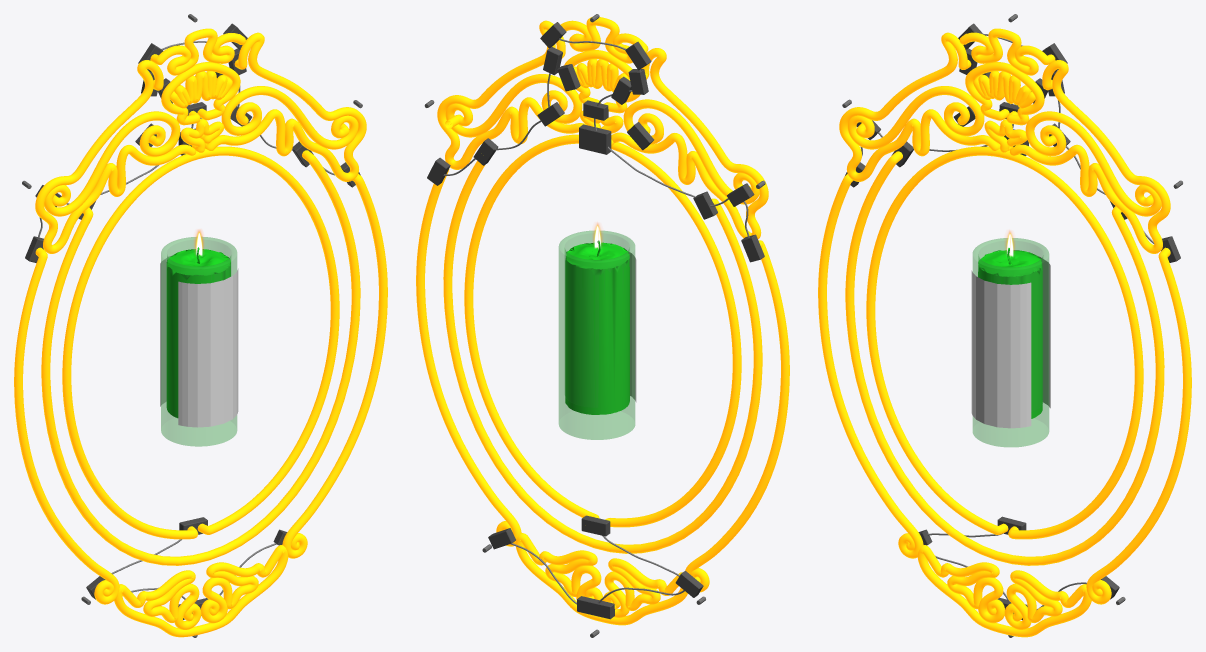
Rendered from neonFrameAndCandle.glb.
The picture shows the model from 3 angles, left to right: view 1: azimuth 30°, elevation 25°; view 2: azimuth 150°, elevation 25°; view 3: azimuth 330°, elevation 25°; orthographic projection.
Parts seen in each view (by area): view 1: Glass, Label1, glass, wax, Cubes, Label2, Cable; view 2: Glass, glass, wax, Cubes, Cable, Label1; view 3: Glass, Label1, glass, wax, Cubes, Label2, Cable.
Part boxes in pixels (<box>): Glass: <box>14,28,387,637</box>; Label1: <box>178,268,238,427</box>; glass: <box>161,237,236,446</box>; wax: <box>166,247,230,418</box>; Cubes: <box>25,23,360,619</box>; Label2: <box>160,256,170,406</box>; Cable: <box>38,41,334,599</box>; Glass: <box>416,17,789,625</box>; glass: <box>559,231,634,439</box>; wax: <box>565,240,629,414</box>; Cubes: <box>427,22,764,619</box>; Cable: <box>443,38,749,604</box>; Label1: <box>629,252,636,402</box>; Glass: <box>818,28,1191,637</box>; Label1: <box>971,270,1031,428</box>; glass: <box>973,238,1048,446</box>; wax: <box>978,248,1042,418</box>; Cubes: <box>845,23,1180,620</box>; Label2: <box>1038,256,1050,408</box>; Cable: <box>860,33,1154,609</box>.
Size of the model in its own units: 0.4695 by 0.7465 by 0.084.
Materials: 8 (1 with a texture image).
